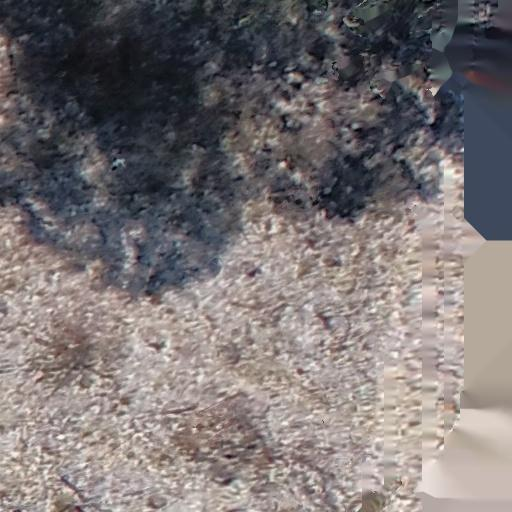stone: (318, 243, 344, 268), (146, 494, 168, 510), (245, 263, 262, 277)
